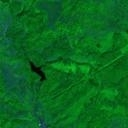alloviz: (28, 60, 46, 81)
